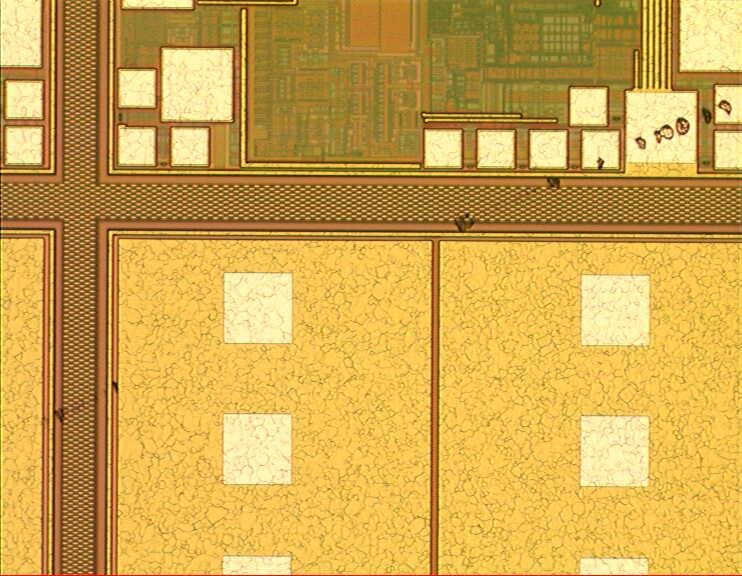SCRATCH: (1, 90, 742, 453)
